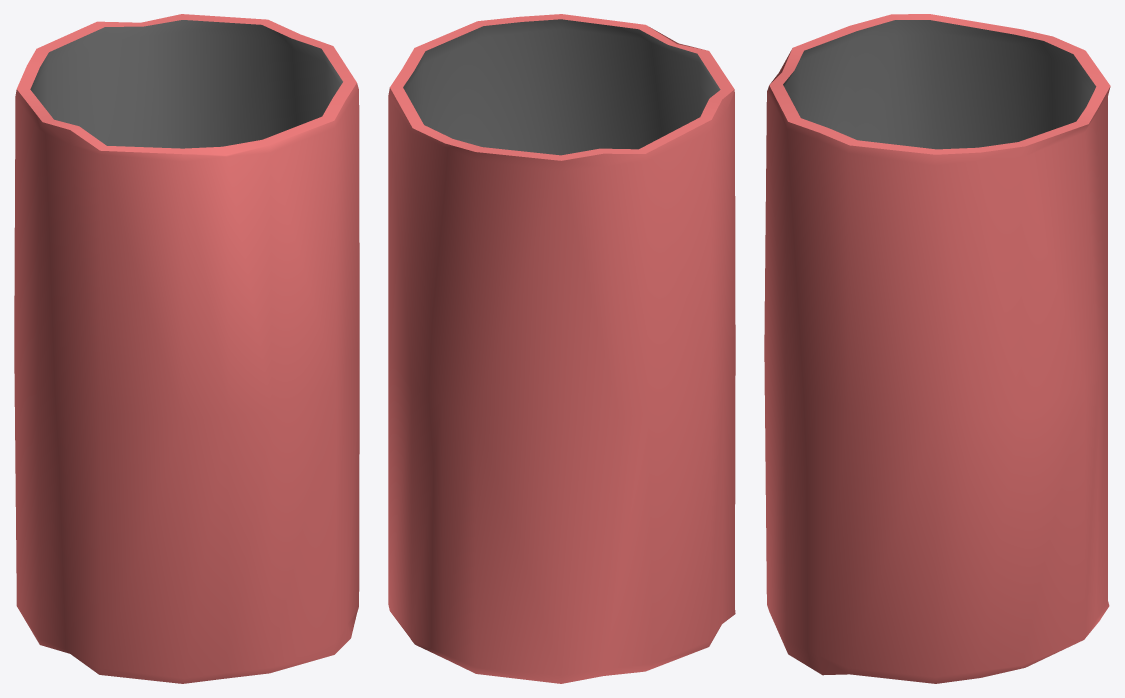
The model's file is lowpaper.fbx.
3 views of the same model, side by side, from view 1: azimuth 30°, elevation 25°; view 2: azimuth 150°, elevation 25°; view 3: azimuth 270°, elevation 25° (orthographic).
Visible parts, largest first — view 1: Cylinder001; view 2: Cylinder001; view 3: Cylinder001.
Boxes of the visible parts, left/top/right/bottom form: Cylinder001: left=14, top=14, right=359, bottom=683; Cylinder001: left=388, top=14, right=735, bottom=683; Cylinder001: left=764, top=14, right=1110, bottom=683.
Size of the model in its own units: 96.59 by 168 by 97.11.
